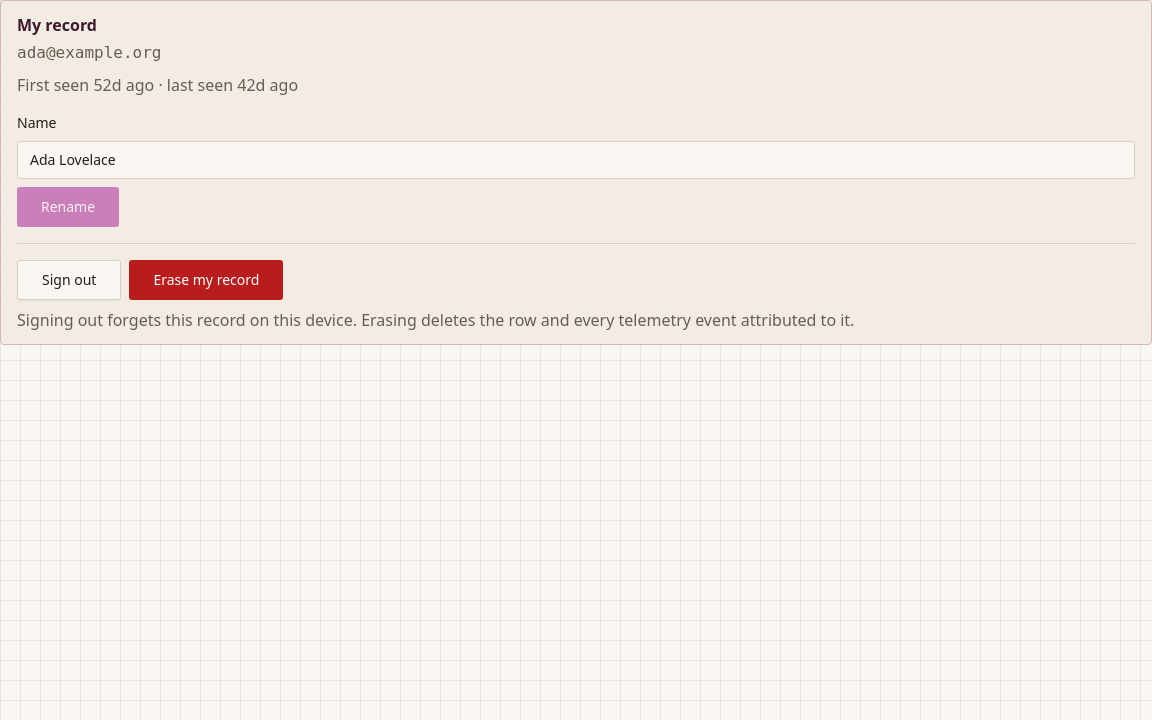
Test: MyRecord › renames the row and confirms it saved
Replace the text in the field labelled "Name" with "Ada King": {"x": 576, "y": 160} [17,141,1135,179]
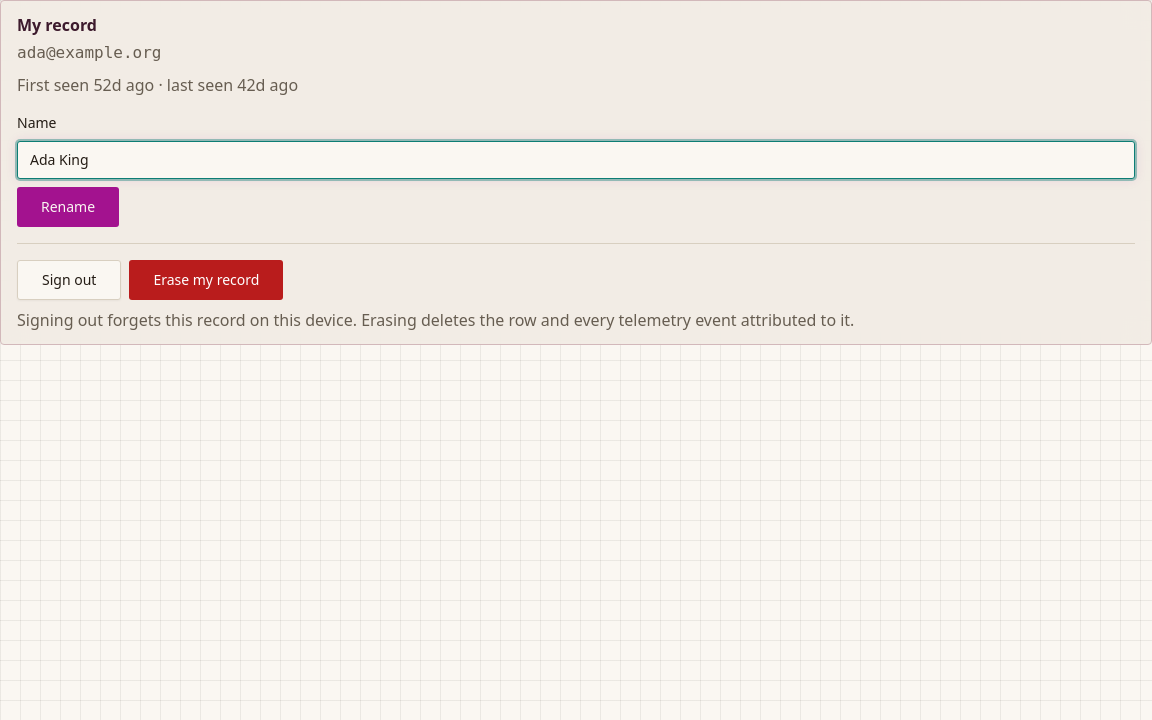
Click the button "Rename": {"x": 68, "y": 207} [17,187,119,227]
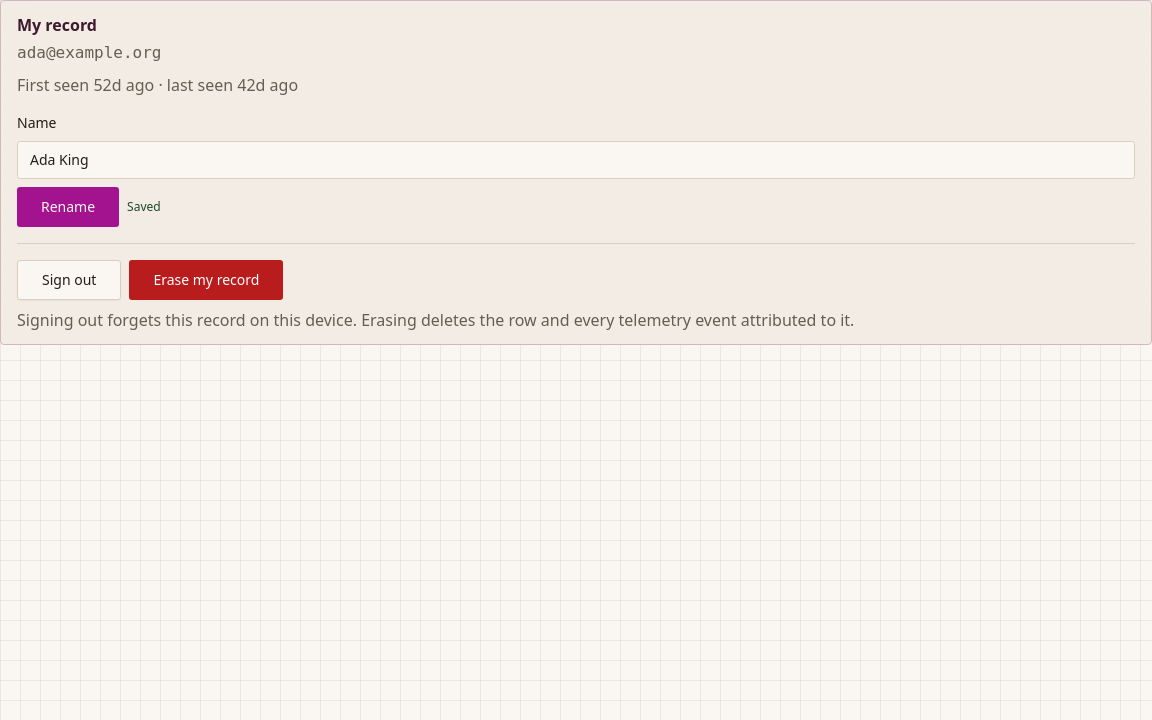
Expected: the text "Saved" is shown, [127,199,161,215]
